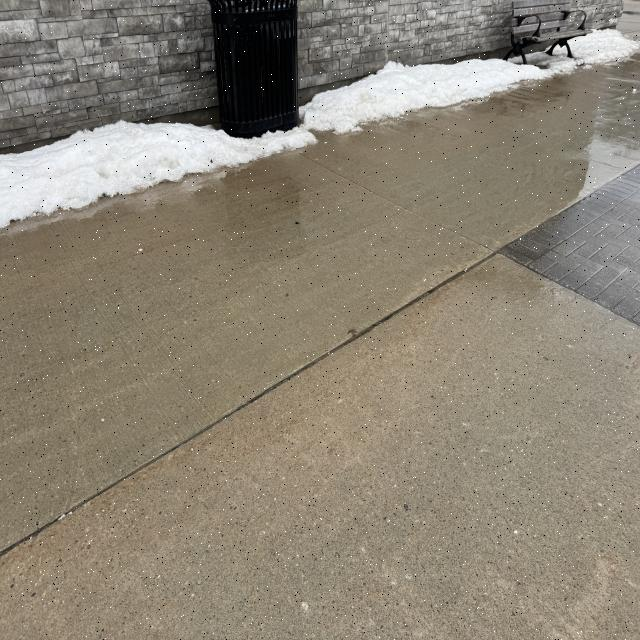Dustbin: (209, 0, 300, 137)
